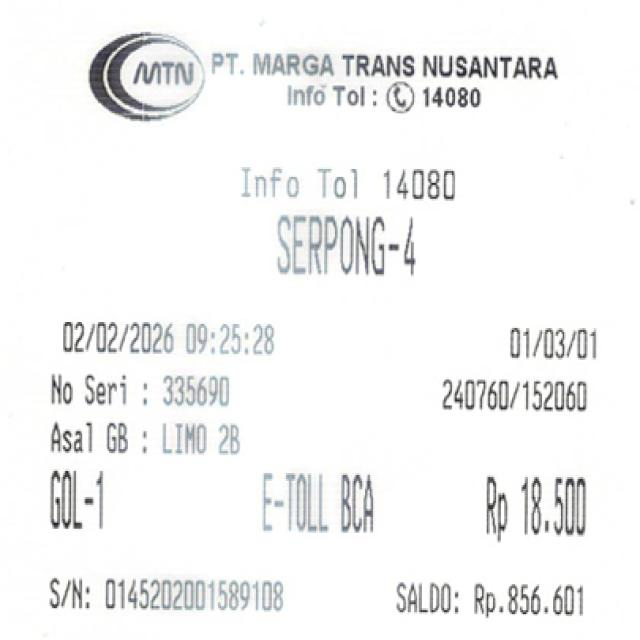date: (62, 317, 282, 358)
store: (209, 41, 568, 88)
total: (470, 467, 595, 541)
